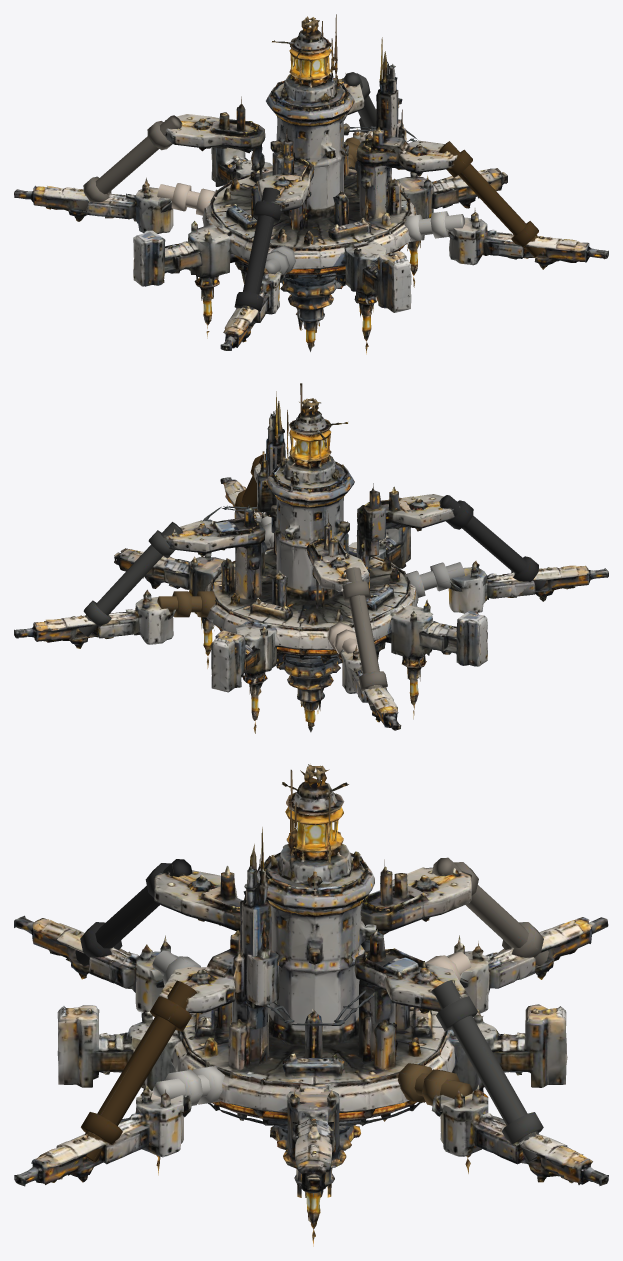
File: st3d_foggiest_greywhistle.glb
3 renders of one model, top to bottom at view 1: azimuth 30°, elevation 25°; view 2: azimuth 150°, elevation 25°; view 3: azimuth 270°, elevation 25°, orthographic. The views are drawn at different scales.
Visible parts, largest first — view 1: HOMELANCER_Station3D_Foggiest-GreywhistleBeacon_v1; view 2: HOMELANCER_Station3D_Foggiest-GreywhistleBeacon_v1; view 3: HOMELANCER_Station3D_Foggiest-GreywhistleBeacon_v1.
Part boxes in pixels (<box>): HOMELANCER_Station3D_Foggiest-GreywhistleBeacon_v1: <box>14,14,608,354</box>; HOMELANCER_Station3D_Foggiest-GreywhistleBeacon_v1: <box>14,383,608,733</box>; HOMELANCER_Station3D_Foggiest-GreywhistleBeacon_v1: <box>14,764,608,1246</box>.
Size of the model in its own units: 0.9828 by 0.819 by 0.9354.
Materials: 1 (1 with a texture image).
